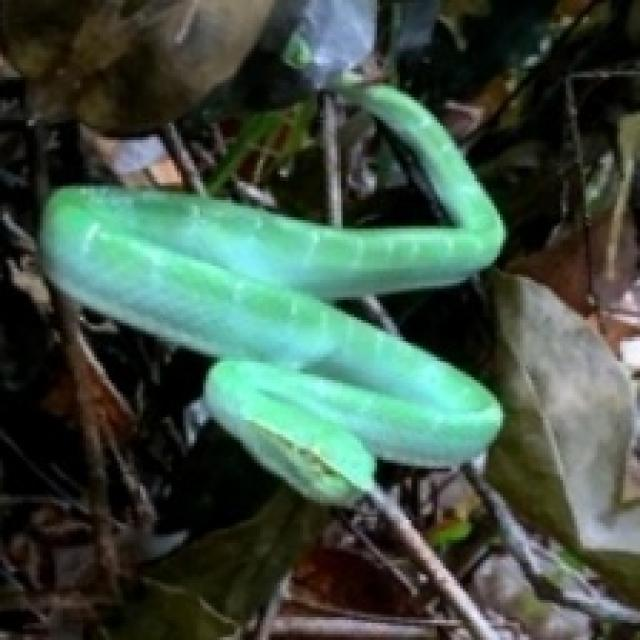north ph temple pitviper: (40, 74, 503, 500)
